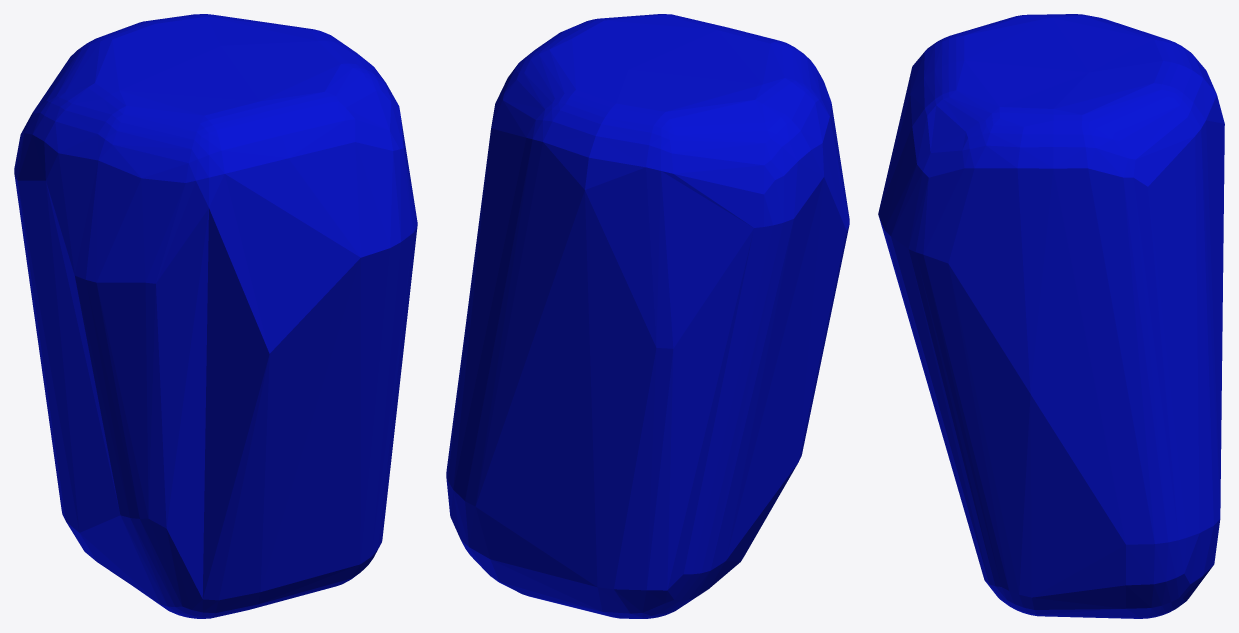
The model's file is COL_hollie_real_007_collision.dae.
3 views of the same model, side by side, from view 1: azimuth 30°, elevation 25°; view 2: azimuth 150°, elevation 25°; view 3: azimuth 270°, elevation 25° (orthographic). The views are drawn at different scales.
Parts seen in each view (by area): view 1: COL_hollie_real_007_collision; view 2: COL_hollie_real_007_collision; view 3: COL_hollie_real_007_collision.
Boxes of the visible parts, x1=… form: COL_hollie_real_007_collision: x1=14, y1=14, x2=417, y2=618; COL_hollie_real_007_collision: x1=446, y1=14, x2=849, y2=618; COL_hollie_real_007_collision: x1=878, y1=14, x2=1224, y2=618.
Bounding box in the file's own units: 0.1071 × 0.0992 × 0.1615.
